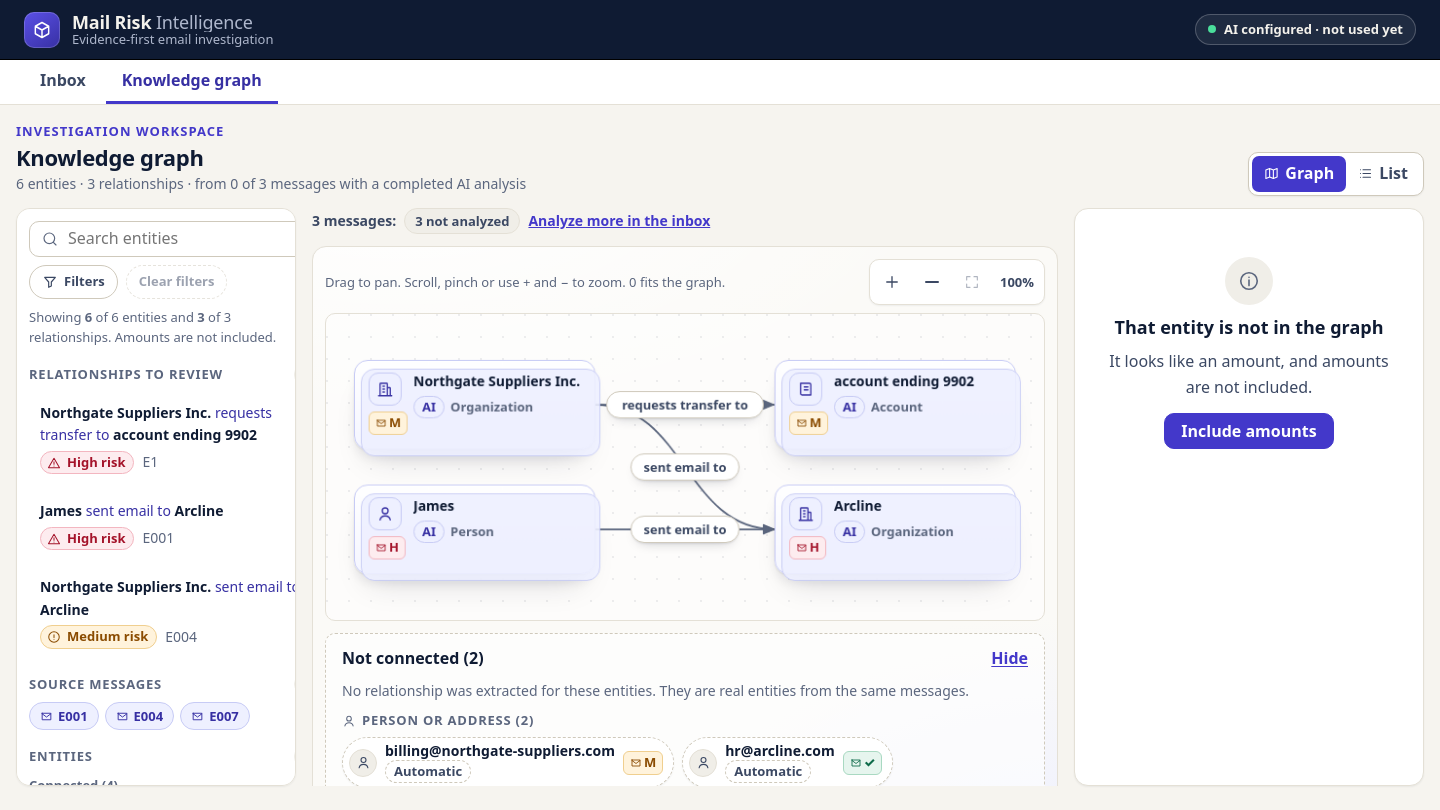
Test: include amounts uses the API parameter › offers to include amounts when a shared link points at an amount that is not loaded
Check: the text "That entity is not in the graph" is shown, box [1114,313,1383,342]
Click the button "Include amounts": (1249, 431) [1164,413,1334,449]
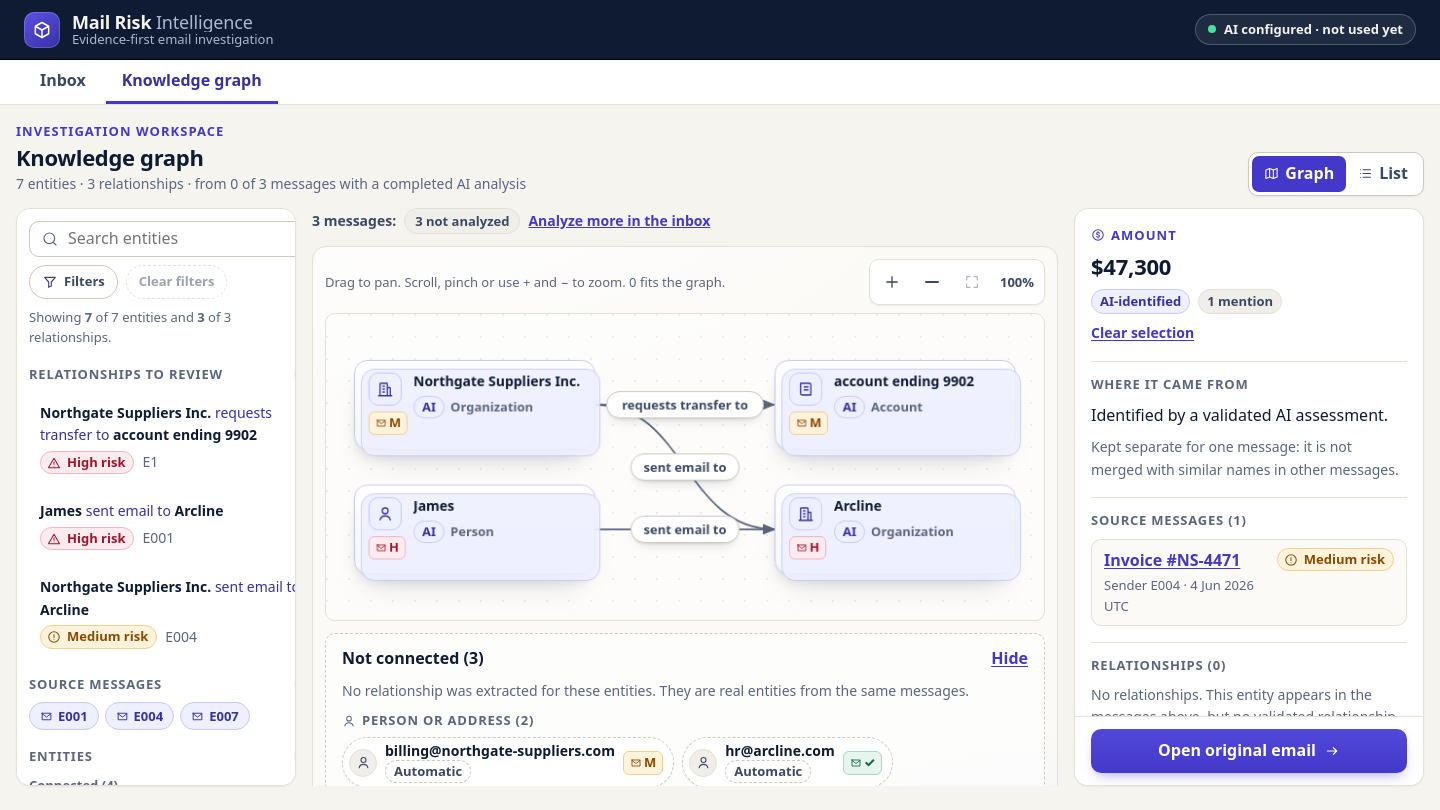
Check: the heading "$47,300" is shown, box [1091,252,1171,282]
